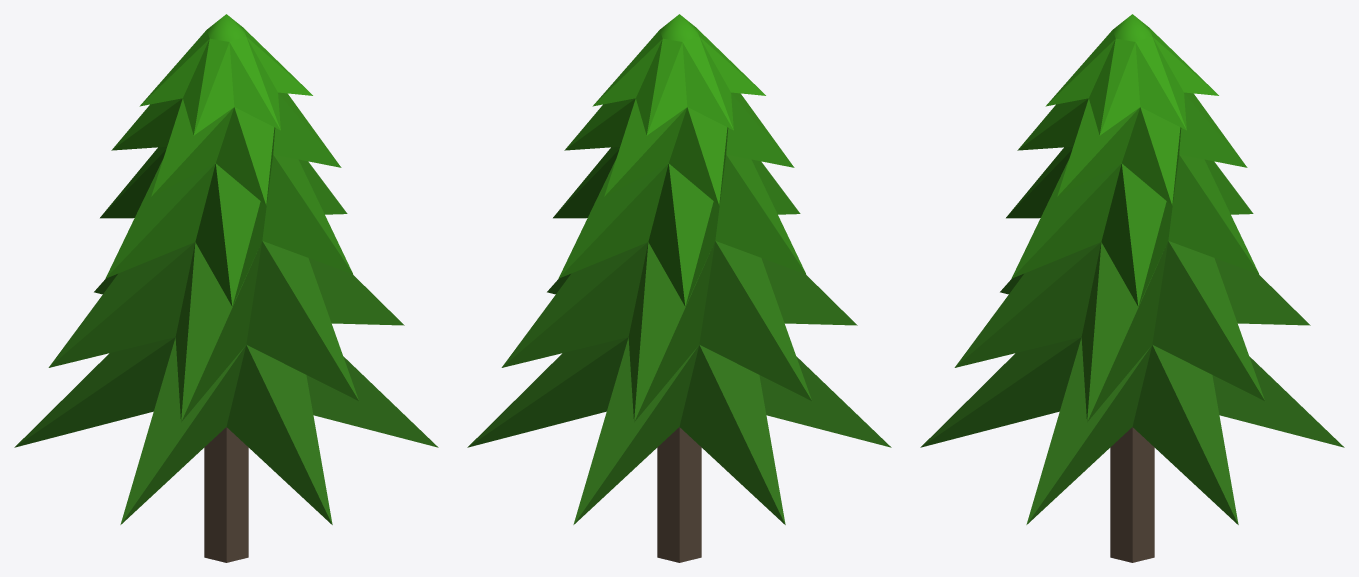
File: Tree02.fbx
3 views of the same model, side by side, from view 1: azimuth 30°, elevation 25°; view 2: azimuth 150°, elevation 25°; view 3: azimuth 270°, elevation 25° (orthographic).
Visible parts, largest first — view 1: pCylinder1; view 2: pCylinder1; view 3: pCylinder1.
Part boxes in pixels (box(x1,y1,x2,y2)): pCylinder1: box(14, 14, 438, 562); pCylinder1: box(467, 14, 891, 562); pCylinder1: box(920, 14, 1344, 562).
Bounding box in the file's own units: 6.41 × 10.34 × 7.4.
1 material, 1 textured.
